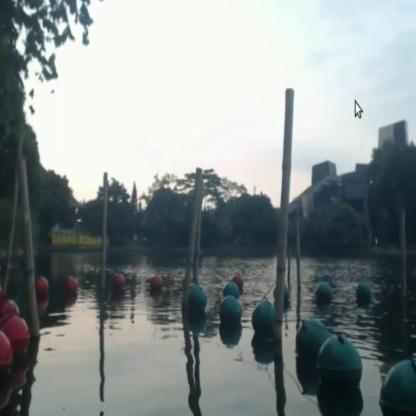green_buoy: (315, 334, 364, 401), (380, 360, 416, 415), (294, 318, 321, 367), (188, 282, 208, 324), (219, 297, 242, 333), (253, 298, 273, 338), (316, 284, 332, 312), (224, 278, 238, 298), (358, 280, 368, 307)
red_buoy: (0, 337, 11, 400), (12, 322, 31, 356), (108, 268, 125, 298), (148, 271, 164, 296), (0, 301, 20, 318), (62, 277, 76, 301), (36, 280, 50, 298), (235, 268, 244, 289)
